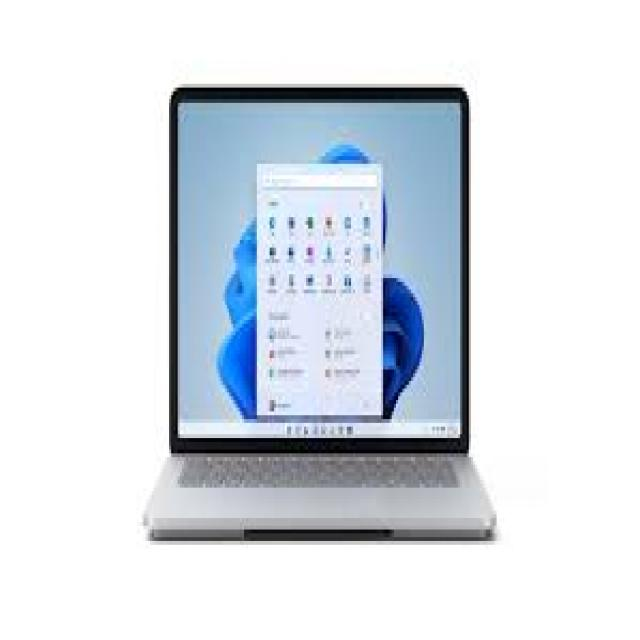others: (137, 72, 507, 538)
